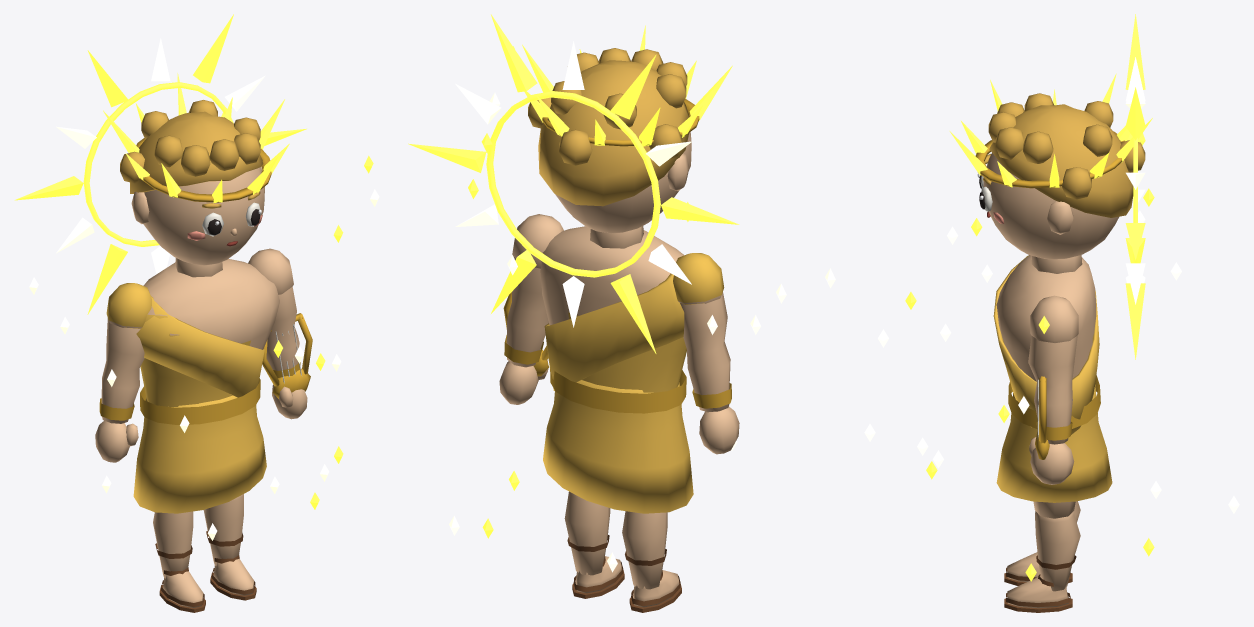
Rendered from apollon.glb.
The picture shows the model from 3 angles, left to right: view 1: azimuth 30°, elevation 25°; view 2: azimuth 150°, elevation 25°; view 3: azimuth 270°, elevation 25°; orthographic projection. The views are drawn at different scales.
Visible parts, largest first — view 1: rumpf, huefte, haare, kopf, vfx_strahlen, armL, armR, knieL, knieR, kopfschmuck, itemR, vfx_funken_1 (+2 smaller); view 2: rumpf, haare, huefte, vfx_strahlen, armL, armR, kopf, knieL, knieR, kopfschmuck, vfx_funken_2; view 3: haare, rumpf, kopf, armR, huefte, knieR, vfx_strahlen, kopfschmuck, itemR, knieL, vfx_funken_2, vfx_funken_0 (+2 smaller).
Boxes of the visible parts, x1,y1,x2,y2 form: rumpf: (136, 259, 279, 424); huefte: (133, 395, 266, 513); haare: (120, 100, 263, 193); kopf: (131, 167, 264, 277); vfx_strahlen: (14, 14, 306, 314); armL: (95, 283, 151, 462); armR: (248, 248, 307, 419); knieL: (153, 511, 205, 612); knieR: (203, 494, 256, 600); kopfschmuck: (103, 73, 289, 202); itemR: (262, 313, 312, 398); vfx_funken_1: (60, 113, 379, 493); rumpf: (540, 226, 686, 413); haare: (528, 48, 689, 206); huefte: (543, 380, 693, 513); vfx_strahlen: (408, 14, 739, 353); armL: (673, 253, 739, 454); armR: (499, 214, 563, 404); kopf: (555, 132, 691, 248); knieL: (622, 511, 681, 612); knieR: (564, 491, 624, 598); kopfschmuck: (522, 25, 732, 146); vfx_funken_2: (468, 179, 835, 538); haare: (988, 93, 1145, 217); rumpf: (993, 255, 1100, 434); kopf: (983, 153, 1118, 273); armR: (1028, 295, 1078, 484); huefte: (996, 385, 1112, 502); knieR: (1004, 511, 1080, 612); vfx_strahlen: (1125, 14, 1145, 359); kopfschmuck: (949, 73, 1152, 188); itemR: (1035, 376, 1049, 459); knieL: (1004, 501, 1080, 585); vfx_funken_2: (864, 226, 1154, 581); vfx_funken_0: (878, 210, 1239, 513).
Size of the model in its own units: 1.5 by 2.58 by 1.62.
